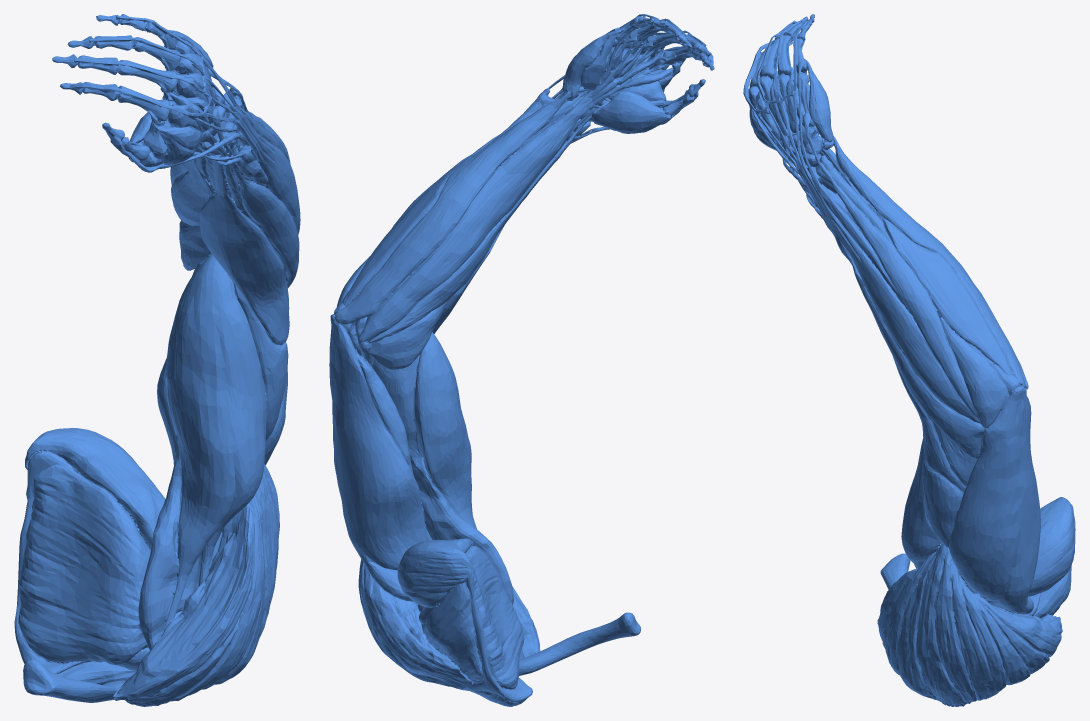
File: 3DPX-012629.glb
The picture shows the model from 3 angles, left to right: view 1: azimuth 30°, elevation 25°; view 2: azimuth 150°, elevation 25°; view 3: azimuth 270°, elevation 25°; orthographic projection. The views are drawn at different scales.
Parts seen in each view (by area): view 1: 3dp_nlmvhm_rarm-repaired-nih3d; view 2: 3dp_nlmvhm_rarm-repaired-nih3d; view 3: 3dp_nlmvhm_rarm-repaired-nih3d.
Boxes of the visible parts, x1,y1,x2,y2 form: 3dp_nlmvhm_rarm-repaired-nih3d: (14,14,300,706); 3dp_nlmvhm_rarm-repaired-nih3d: (329,14,714,706); 3dp_nlmvhm_rarm-repaired-nih3d: (743,14,1075,706).
Bounding box in the file's own units: 3.35 × 7.17 × 3.49.
